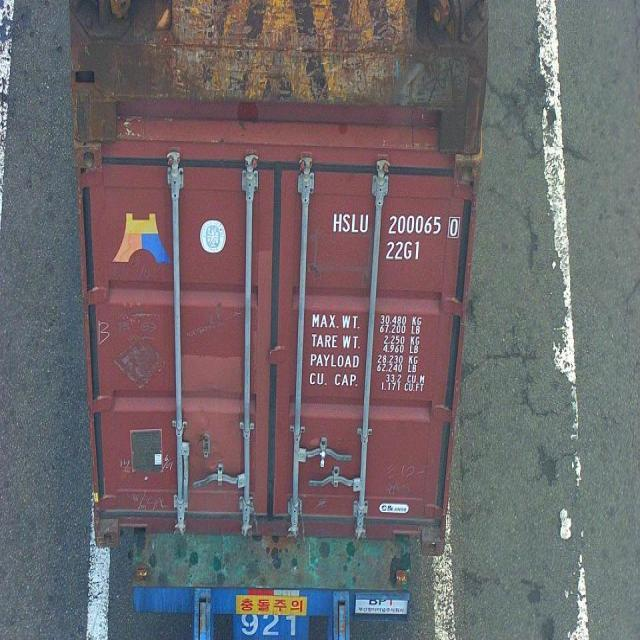ISO: (386, 242, 421, 260)
container_number: (330, 206, 462, 237)
